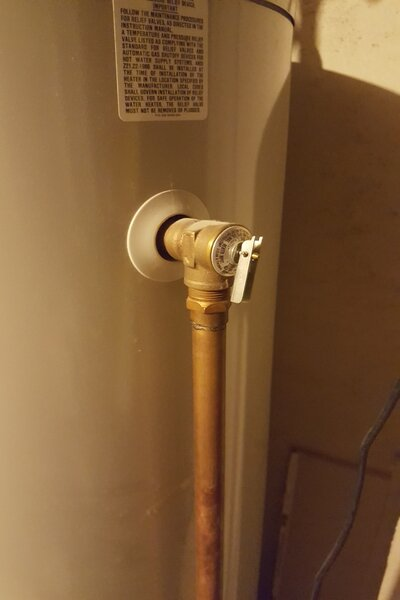valve: (157, 214, 265, 319)
